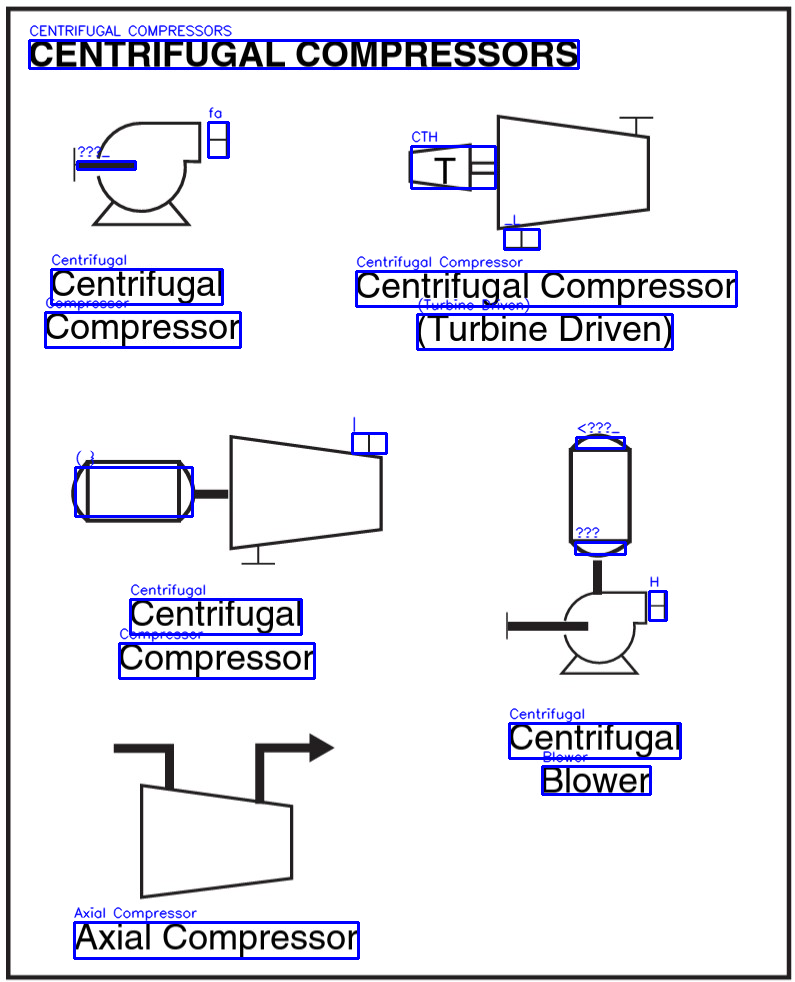Compressor: (60, 422, 395, 575), (494, 426, 673, 681), (106, 727, 338, 904), (403, 107, 659, 258), (63, 114, 233, 230)
